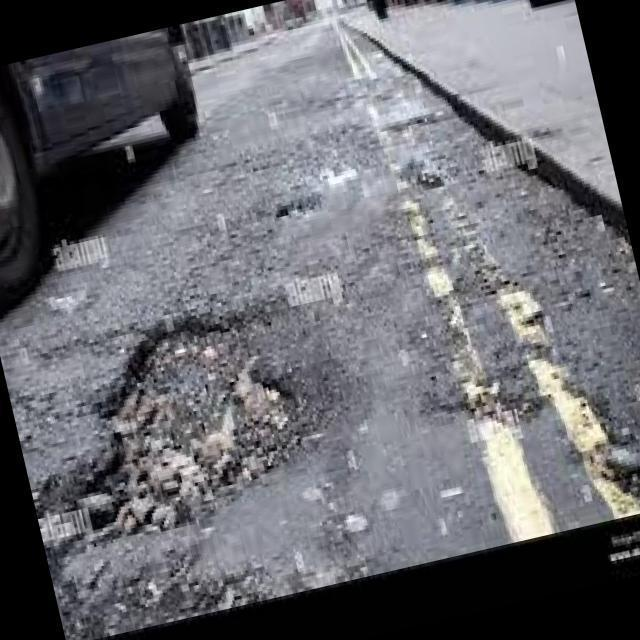pothole: (61, 284, 324, 543)
